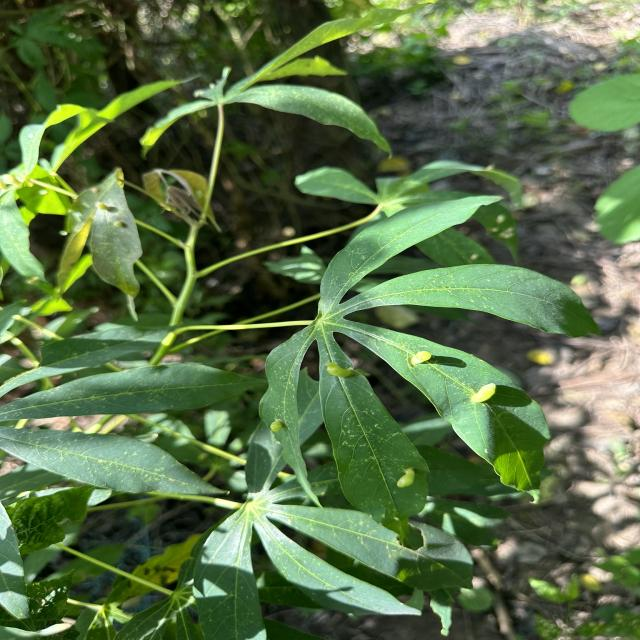Mosca: (93, 198, 135, 231), (319, 355, 357, 390), (399, 345, 437, 376), (475, 370, 503, 408), (387, 465, 423, 494), (267, 412, 294, 443)
